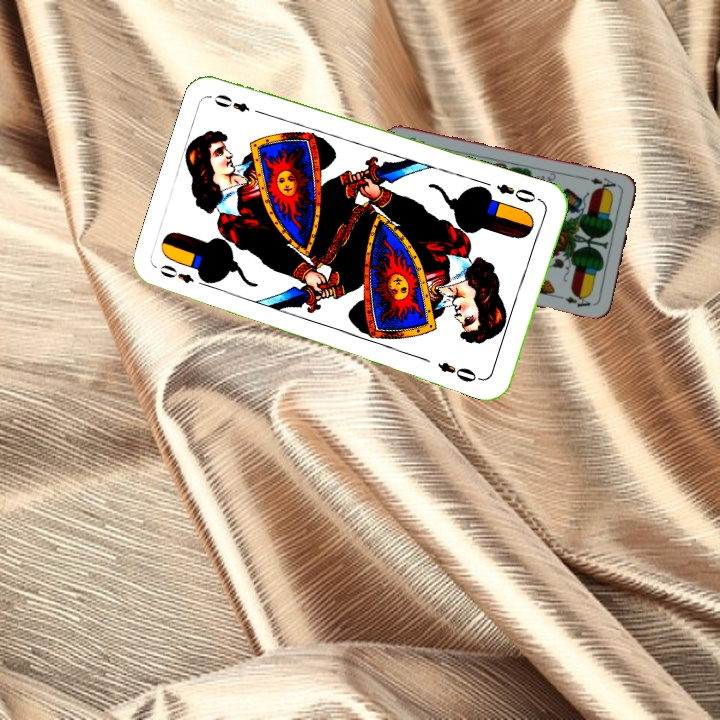EA: (582, 173, 622, 195)
EO: (492, 180, 544, 205), (155, 261, 197, 286)
